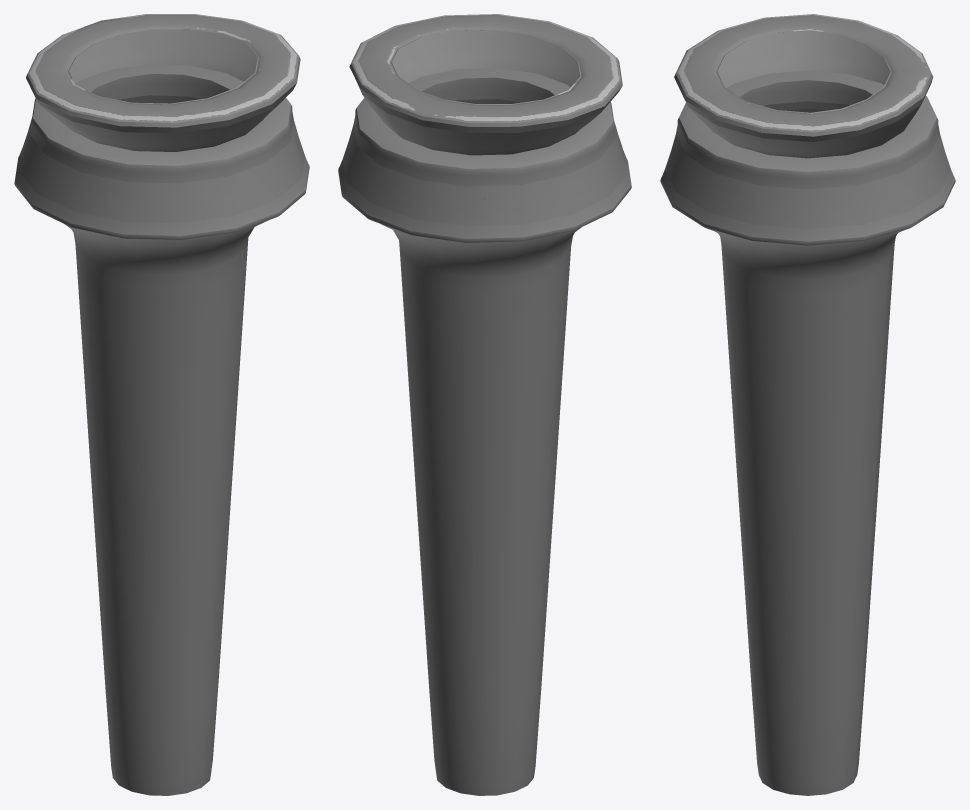
File: AESPA1_02.glb
3 views of the same model, side by side, from view 1: azimuth 30°, elevation 25°; view 2: azimuth 150°, elevation 25°; view 3: azimuth 270°, elevation 25° (orthographic).
Size of the model in its own units: 0.1331 by 0.3514 by 0.1331.
1 material, 1 textured.
